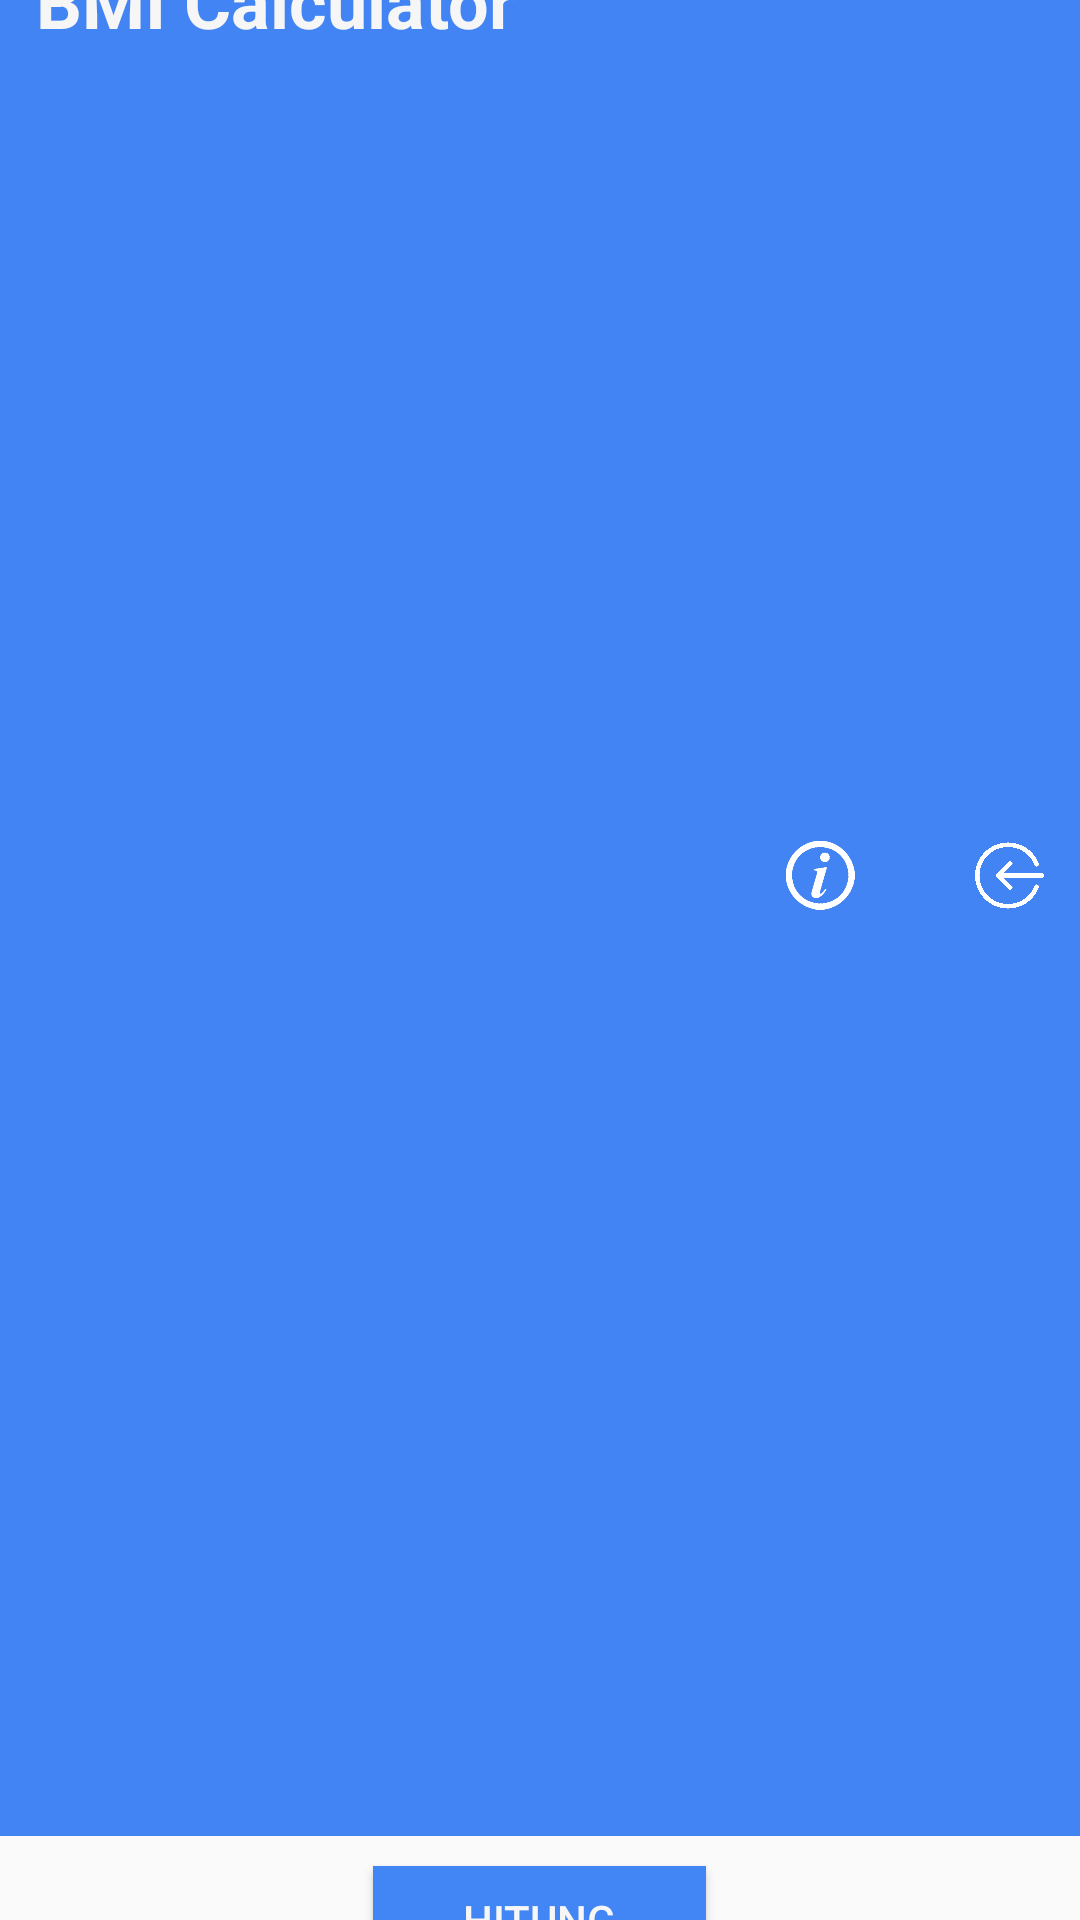

Icon click points for this 1080*1920 phone screenshot, format (x,y):
out: (1009,875)
